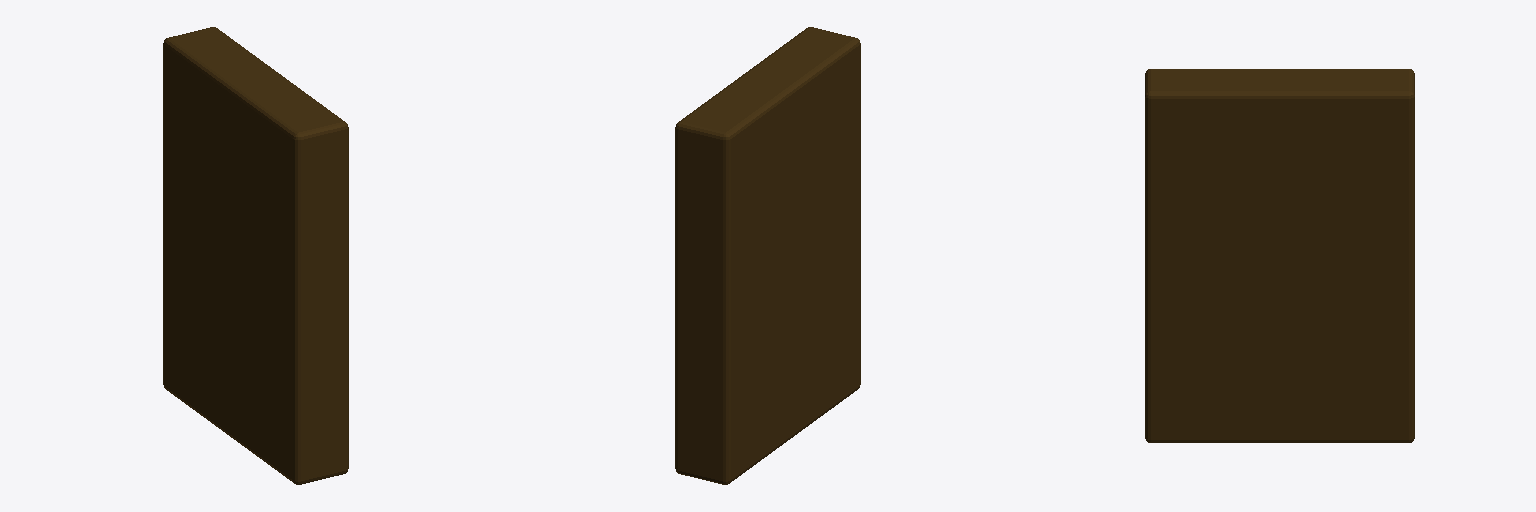
The model's file is book4.obj.
3 renders of one model, left to right at view 1: azimuth 30°, elevation 25°; view 2: azimuth 150°, elevation 25°; view 3: azimuth 270°, elevation 25°, orthographic.
Parts seen in each view (by area): view 1: Cube; view 2: Cube; view 3: Cube.
Part boxes in pixels (x1,y1,x2,y2): Cube: (163, 27, 348, 484); Cube: (675, 27, 860, 484); Cube: (1145, 69, 1414, 442).
Size of the model in its own units: 32.53 by 200 by 139.